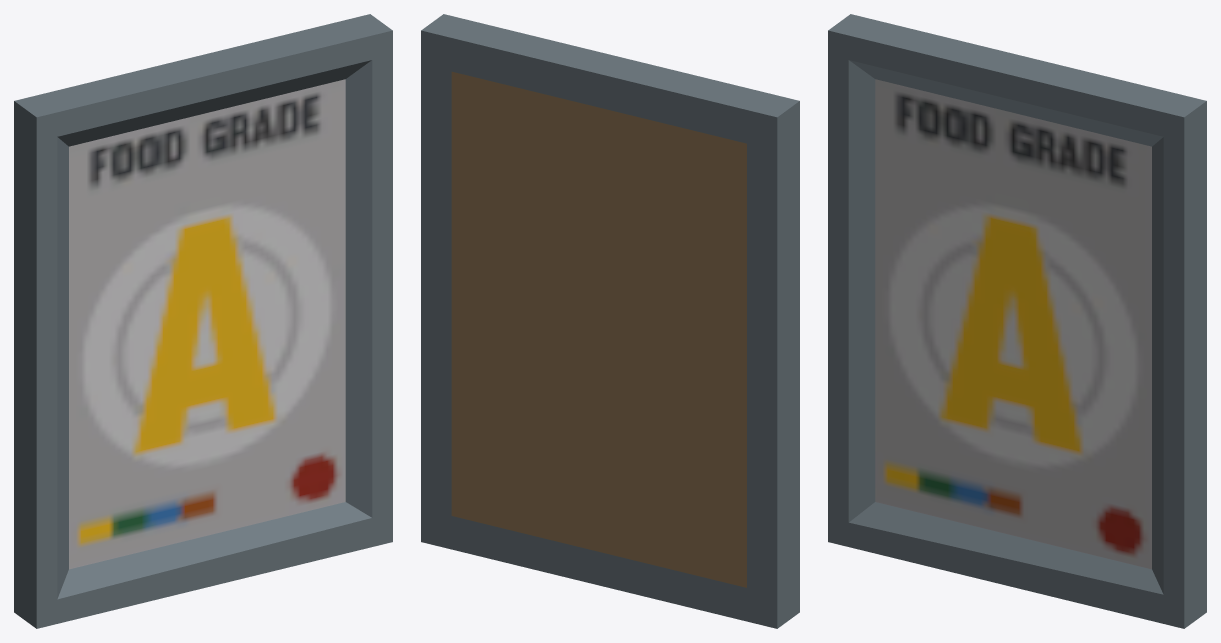
Rendered from SM_Sign_Food_Grade_01.obj.
3 views of the same model, side by side, from view 1: azimuth 30°, elevation 25°; view 2: azimuth 150°, elevation 25°; view 3: azimuth 330°, elevation 25° (orthographic).
Visible parts, largest first — view 1: SM_Sign_Food_Grade_01_0; view 2: SM_Sign_Food_Grade_01_0; view 3: SM_Sign_Food_Grade_01_0.
Boxes of the visible parts, x1=… form: SM_Sign_Food_Grade_01_0: x1=14, y1=14, x2=392, y2=628; SM_Sign_Food_Grade_01_0: x1=421, y1=14, x2=799, y2=628; SM_Sign_Food_Grade_01_0: x1=828, y1=14, x2=1206, y2=628.
Bounding box in the file's own units: 0.3716 × 0.51 × 0.0407.
Materials: 1 (1 with a texture image).
